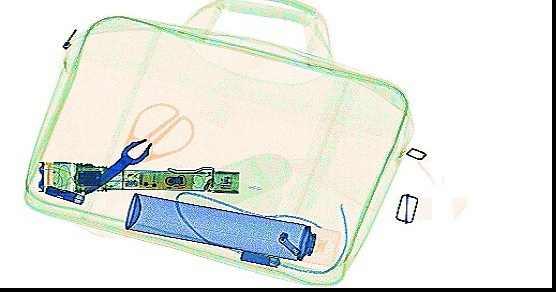pressure: (123, 189, 341, 269)
scissors: (79, 101, 195, 193)
